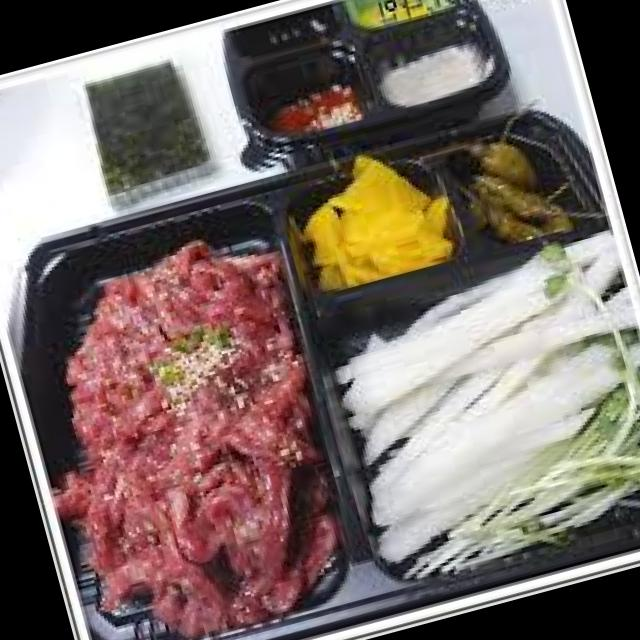plastic-bowl: (1, 97, 640, 640), (220, 0, 534, 181), (68, 53, 227, 218)
